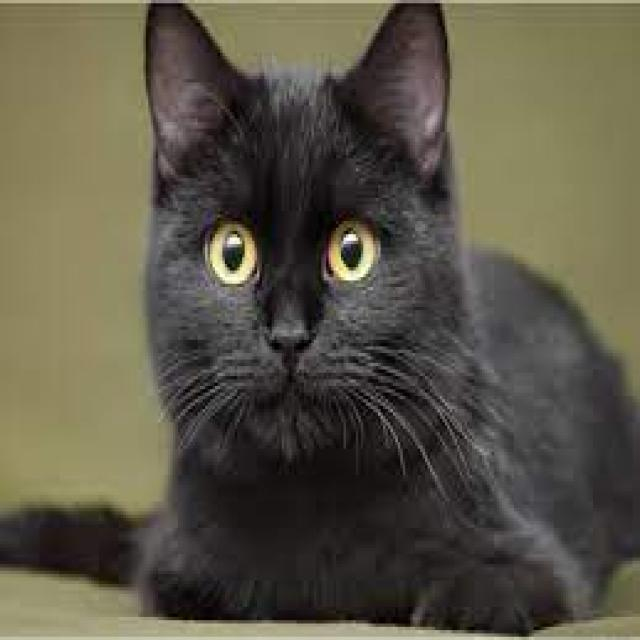black cat: (0, 0, 640, 638)
